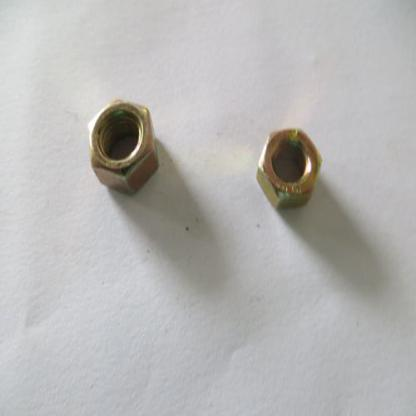FOD: (87, 97, 159, 197), (255, 126, 324, 215)
